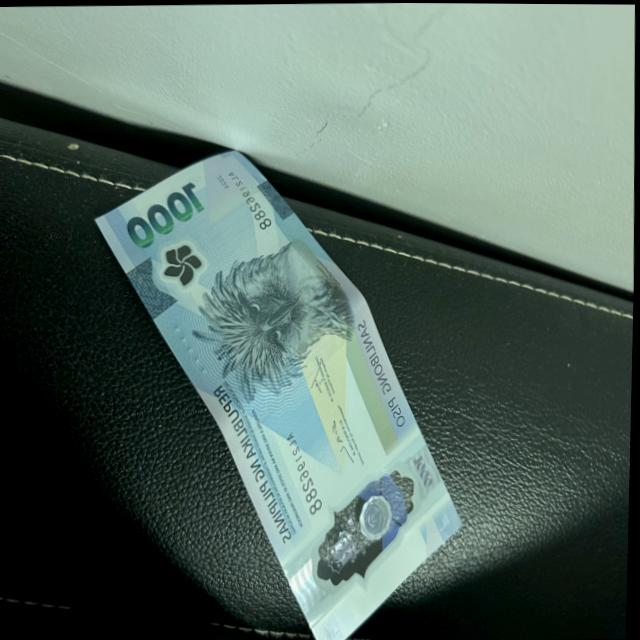clear_window: (306, 463, 424, 590)
eagle: (198, 236, 354, 388)
sampaguita: (164, 241, 207, 287)
